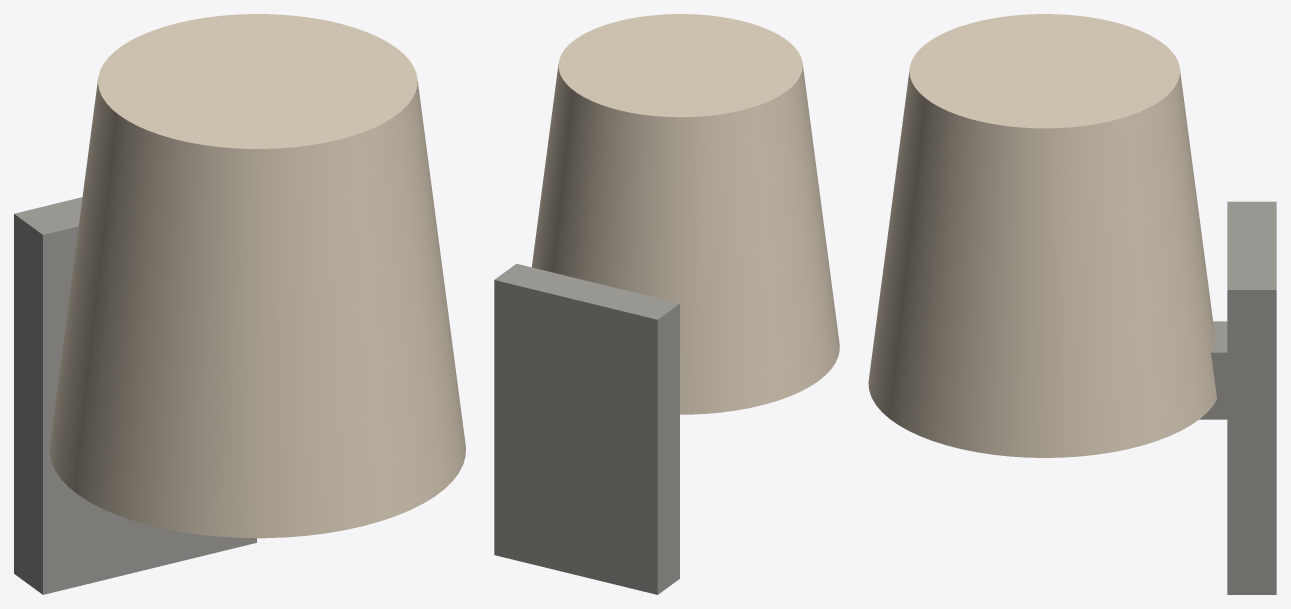
Rendered from wall_sconce.glb.
3 views of the same model, side by side, from view 1: azimuth 30°, elevation 25°; view 2: azimuth 150°, elevation 25°; view 3: azimuth 270°, elevation 25° (orthographic). The views are drawn at different scales.
Visible parts, largest first — view 1: Glass shade, Wall plate; view 2: Glass shade, Wall plate; view 3: Glass shade, Wall plate, Lamp arm.
Part boxes in pixels (x1,y1,x2,y2): Glass shade: (49,14,465,538); Wall plate: (14,197,256,594); Glass shade: (532,14,839,414); Wall plate: (494,263,679,594); Glass shade: (868,14,1216,457); Wall plate: (1227,201,1276,594); Lamp arm: (1199,321,1227,419).
Bounding box in the file's own units: 0.172 × 0.258 × 0.199.
